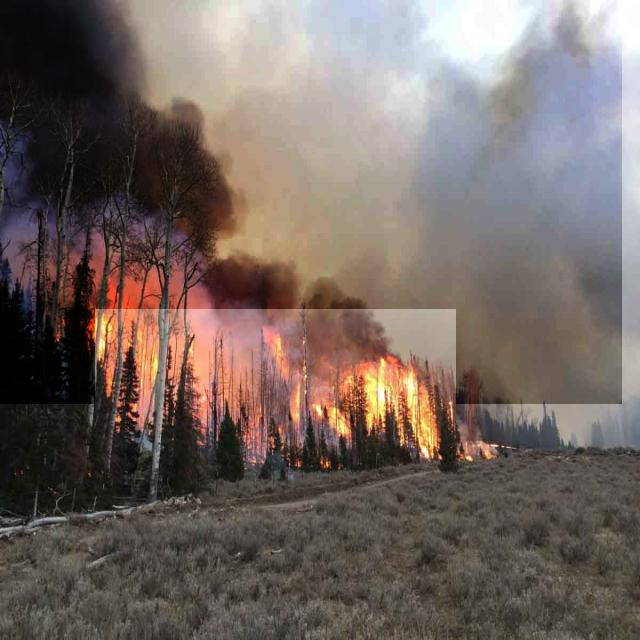Fire: (95, 309, 456, 461)
Smoke: (0, 0, 622, 404)
